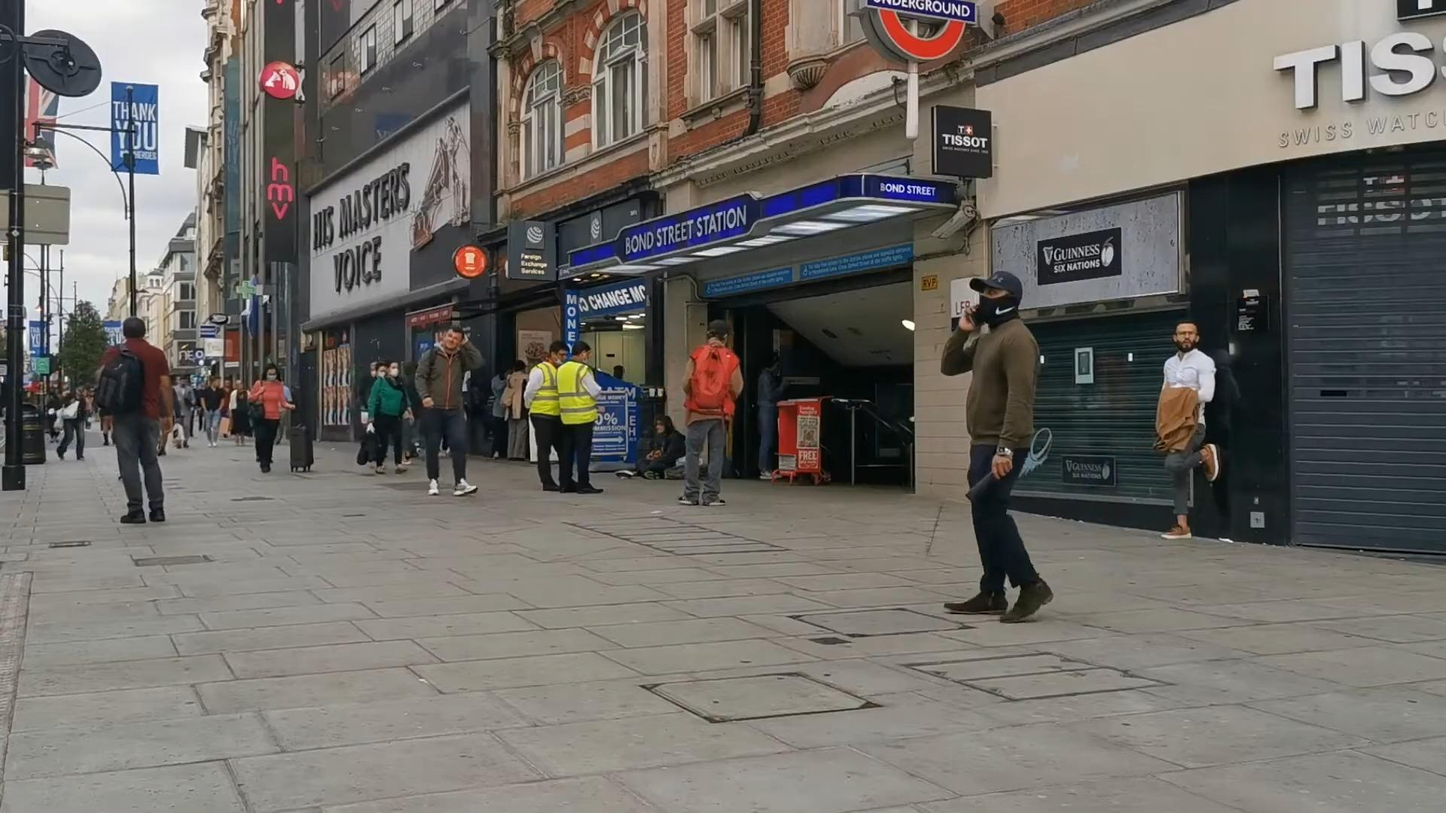no-helmet: (969, 271, 1023, 331), (1171, 319, 1201, 353), (707, 319, 731, 347), (443, 324, 464, 350), (549, 341, 570, 366), (123, 317, 145, 339), (572, 341, 591, 364), (655, 415, 675, 435), (262, 363, 282, 382), (385, 360, 400, 379), (375, 361, 386, 378)
